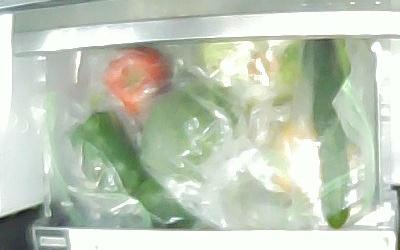apple_vinyl: (103, 48, 172, 118)
broccoli_vinyl: (142, 82, 237, 180)
cucumber_vinyl: (303, 38, 350, 229)
grapefruit_vinyl: (270, 117, 361, 193)
lettuce_vinyl: (203, 37, 352, 111)
paprika_vinyl: (69, 93, 142, 197), (134, 178, 198, 229)
